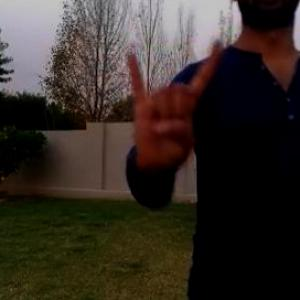takeoff-hand: (125, 32, 224, 173)
